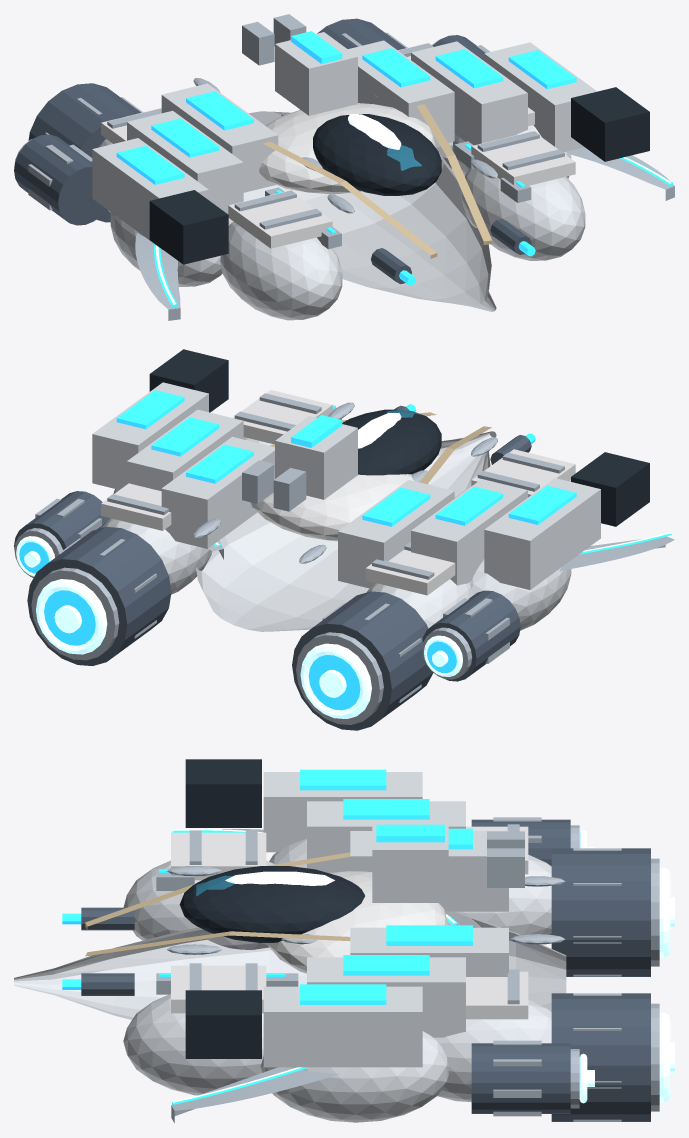
File: SL_BULWARK_FINAL.glb
3 renders of one model, top to bottom at view 1: azimuth 30°, elevation 25°; view 2: azimuth 150°, elevation 25°; view 3: azimuth 270°, elevation 25°, orthographic. The views are drawn at different scales.
Visible parts, largest first — view 1: armor, black, shadow, highlight, panel, neon, trim, bright, glass; view 2: armor, shadow, panel, neon, highlight, black, bright, trim; view 3: armor, shadow, black, panel, highlight, neon, bright, trim.
Boxes of the visible parts, bbox=[...] form: armor: bbox=[92, 32, 597, 320]; black: bbox=[149, 87, 649, 264]; shadow: bbox=[14, 18, 531, 284]; highlight: bbox=[101, 43, 575, 248]; panel: bbox=[14, 14, 674, 320]; neon: bbox=[116, 31, 672, 307]; trim: bbox=[263, 104, 492, 258]; bright: bbox=[155, 114, 671, 304]; glass: bbox=[387, 145, 421, 170]; armor: bbox=[92, 382, 600, 631]; shadow: bbox=[14, 405, 531, 730]; panel: bbox=[14, 393, 674, 724]; neon: bbox=[19, 390, 672, 710]; highlight: bbox=[101, 390, 575, 595]; black: bbox=[149, 349, 649, 526]; bright: bbox=[16, 413, 670, 718]; trim: bbox=[270, 412, 491, 484]; armor: bbox=[14, 772, 566, 1122]; shadow: bbox=[81, 819, 650, 1121]; black: bbox=[179, 759, 364, 1058]; panel: bbox=[156, 817, 659, 1122]; highlight: bbox=[171, 826, 528, 1019]; neon: bbox=[62, 769, 472, 1106]; bright: bbox=[172, 829, 674, 1103]; trim: bbox=[85, 852, 350, 956].
Bounding box in the file's own units: 5.18 × 1.86 × 5.2.
